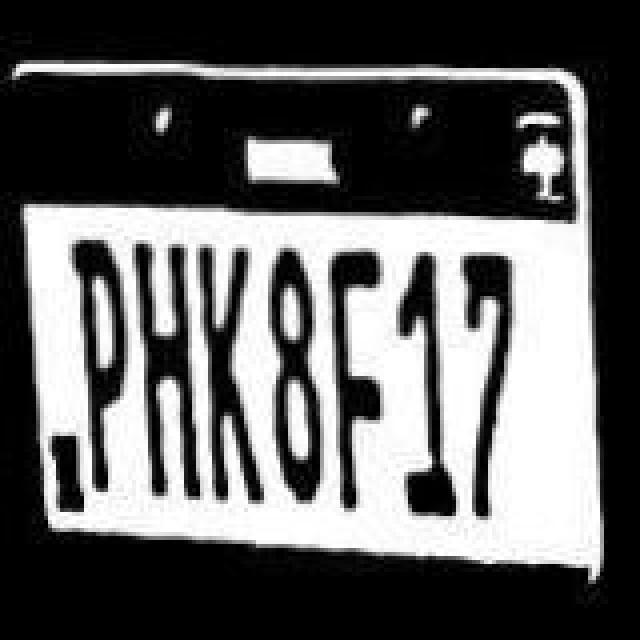1: (392, 246, 460, 518)
7: (456, 252, 516, 528)
8: (266, 244, 322, 504)
F: (330, 238, 386, 518)
H: (130, 238, 202, 506)
K: (194, 238, 266, 510)
P: (72, 236, 132, 500)
